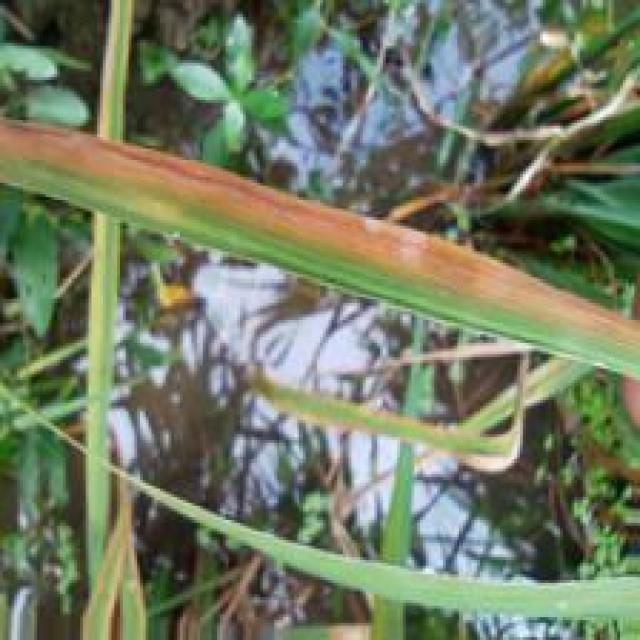Bacterial_Leaf_Blight: (0, 119, 640, 351)
